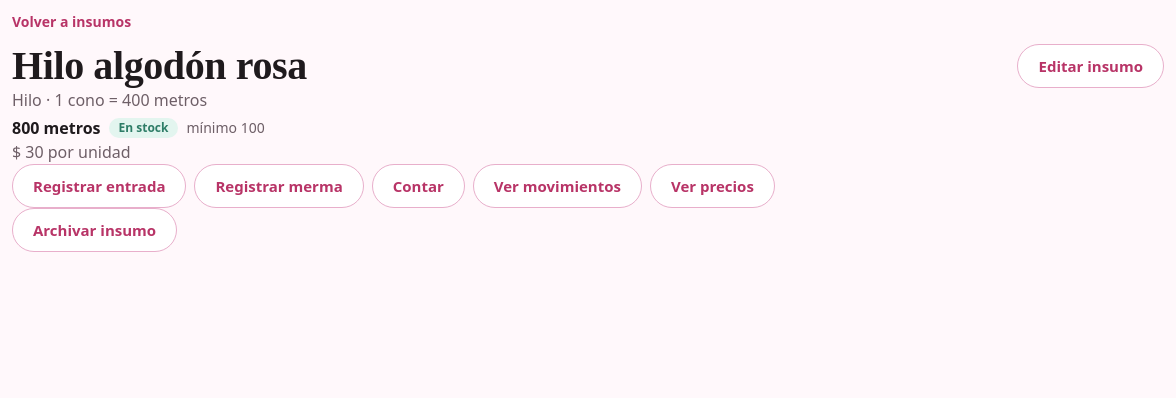
Test case: historial de precios muestra el origen
This screenshot has width=1176, height=398.
Click the button "Ver precios". click: (712, 186)
box: [650, 164, 775, 208]
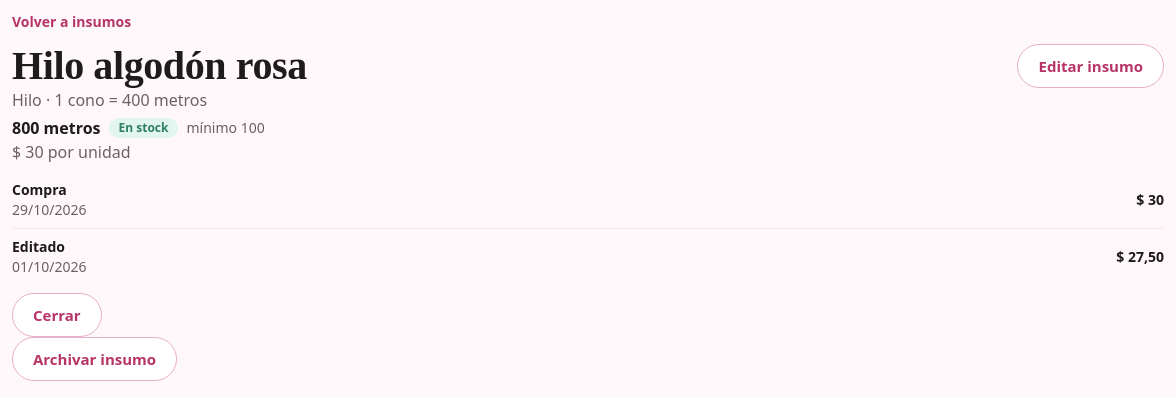
expect the text "Compra" is shown: met, box [12, 180, 67, 199]
expect the text "Editado" is shown: met, box [12, 237, 65, 256]
expect the text "$ 27,50" is shown: met, box [1116, 247, 1164, 267]
